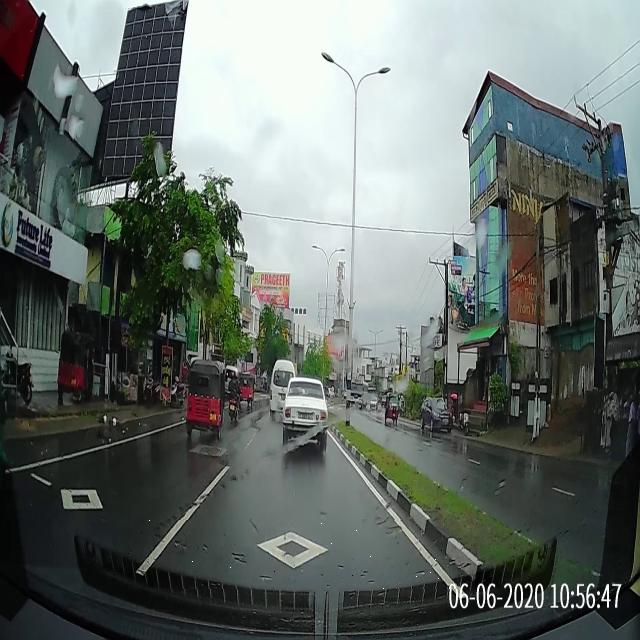diamond: (129, 521, 459, 589)
